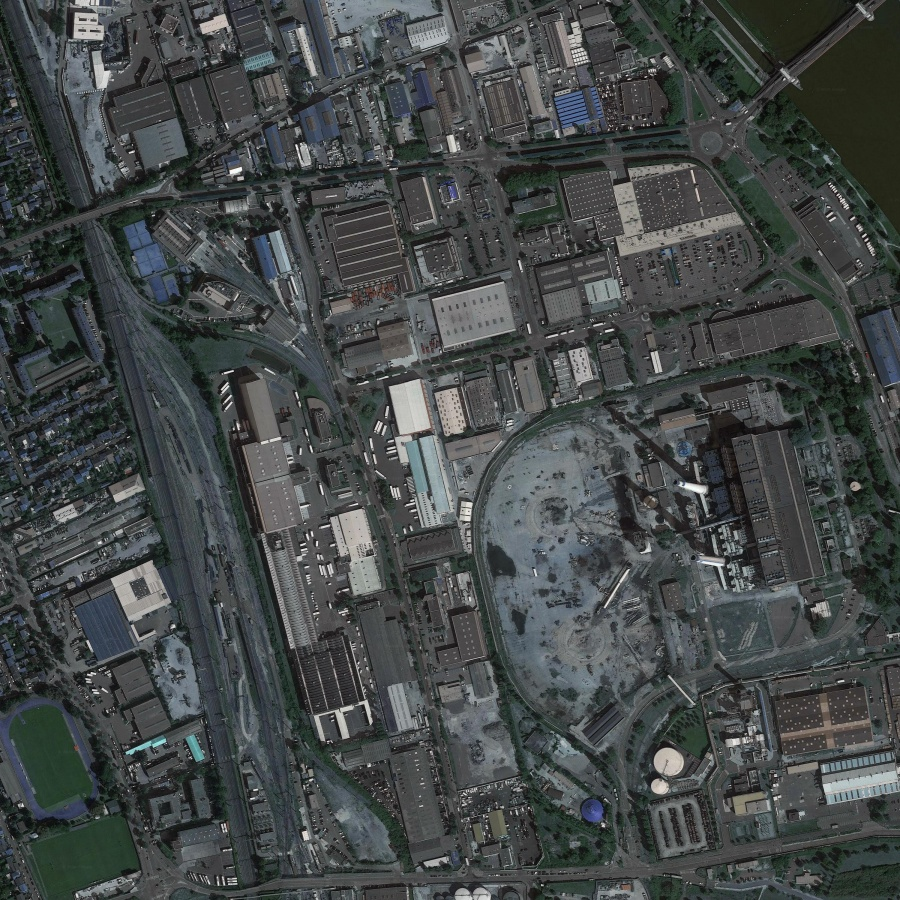PowerPlant: (602, 394, 806, 794)
